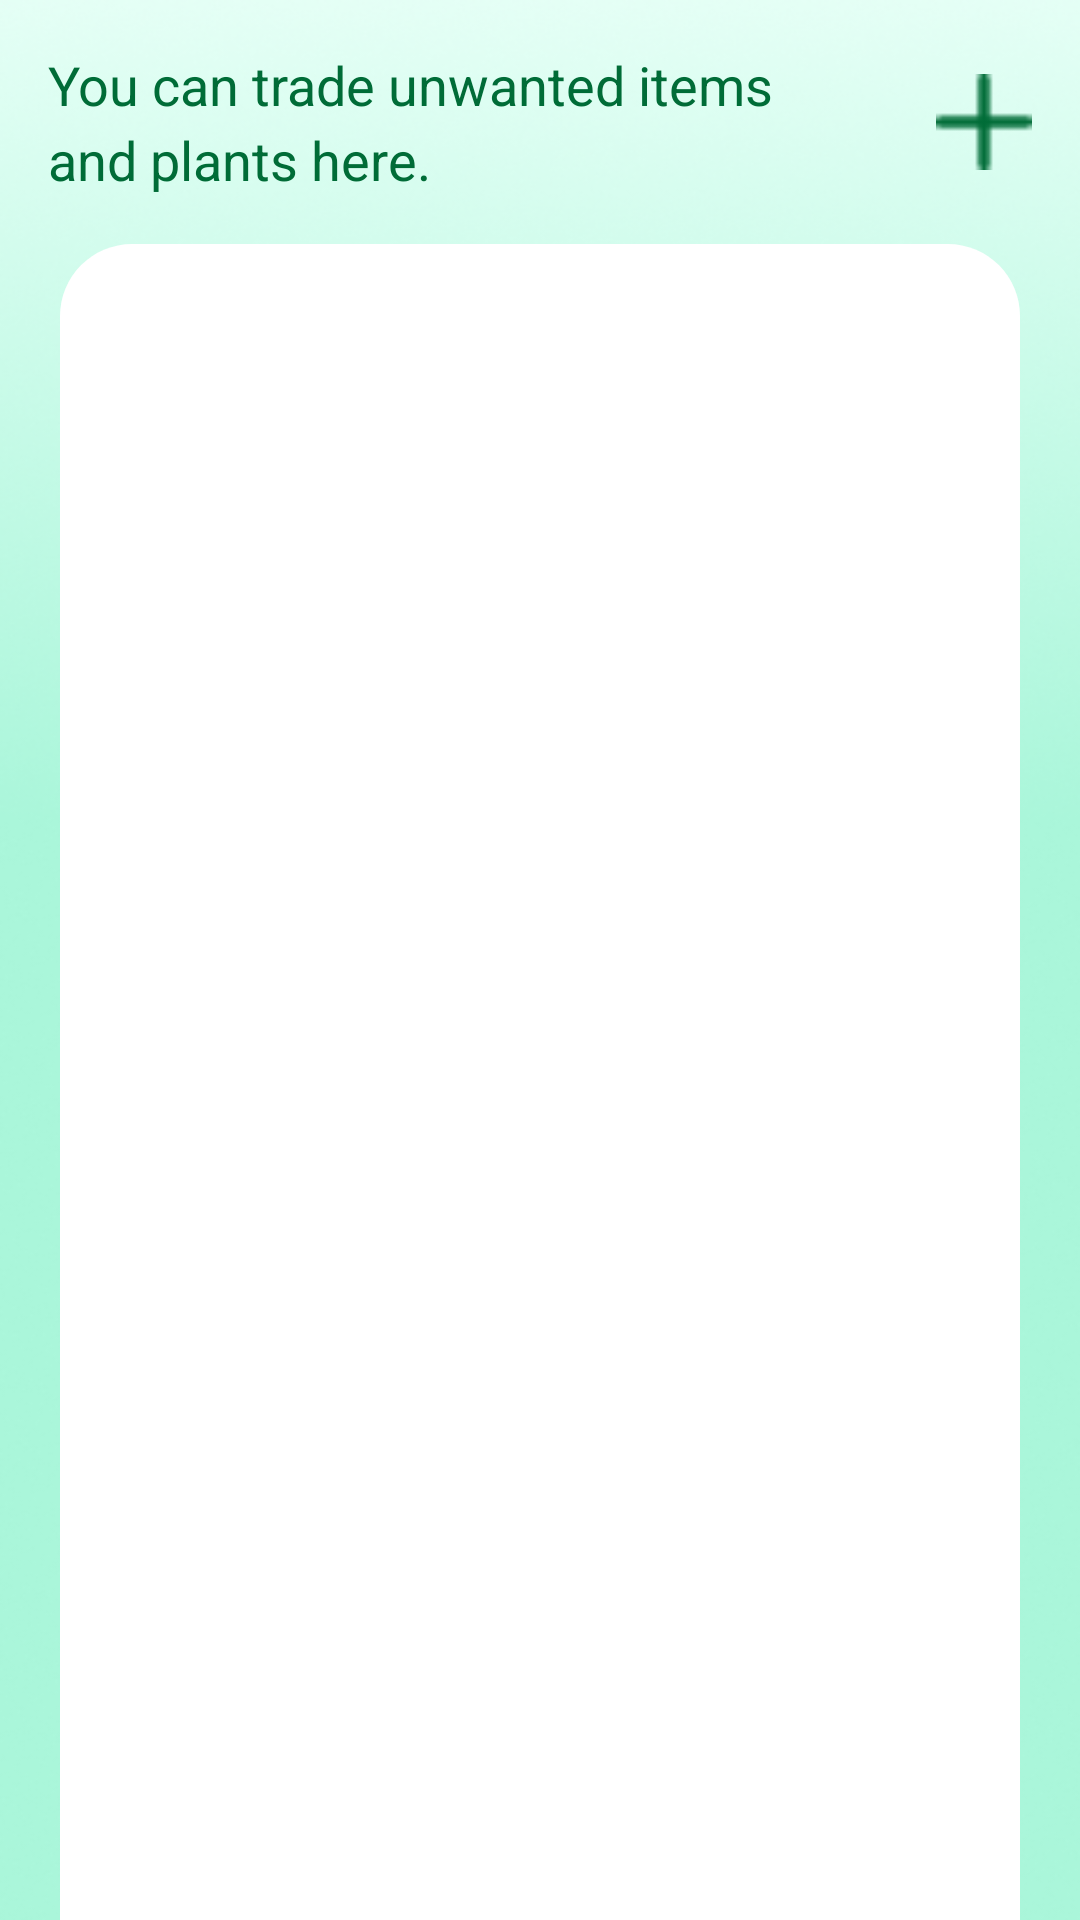

Where to tap for icons on this 1080×1920 app screen, as (x,y):
add: (984,122)
